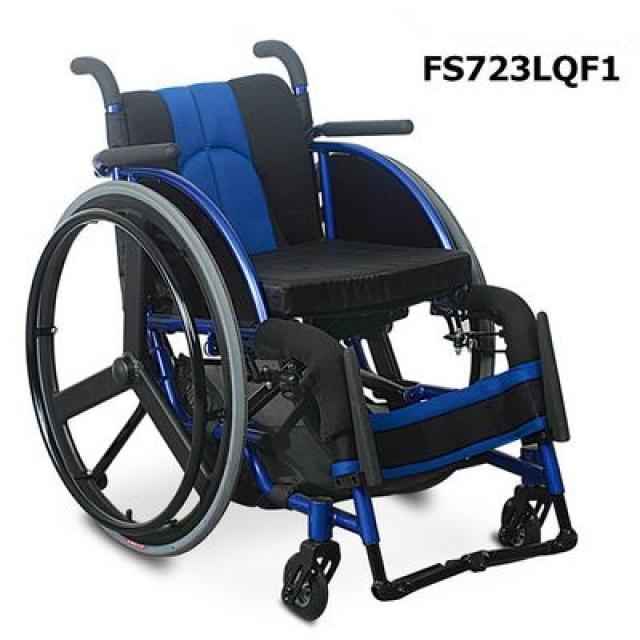wheelchairs: (26, 23, 607, 622)
